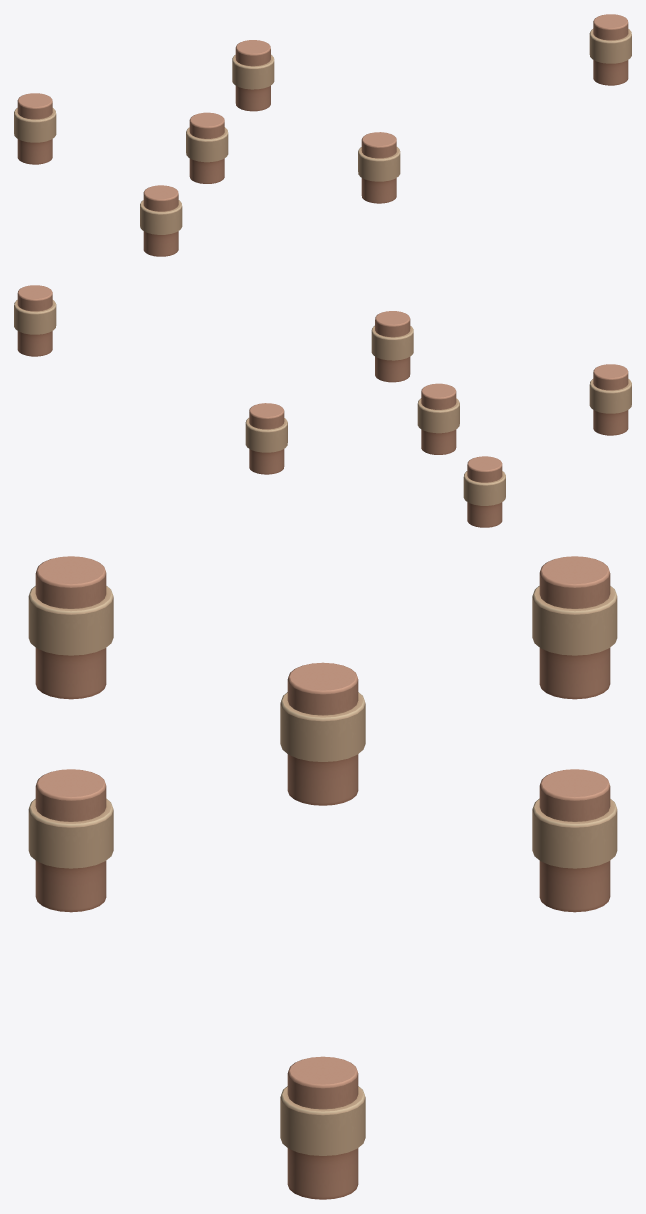
The model's file is Props.fbx.
The picture shows the model from 3 angles, top to bottom: view 1: azimuth 30°, elevation 25°; view 2: azimuth 150°, elevation 25°; view 3: azimuth 270°, elevation 25°; orthographic projection. The views are drawn at different scales.
Visible parts, largest first — view 1: Cylinder-2 (2), Cylinder-2, Cylinder-2 (3), Cylinder-2 (4), Cylinder-2 (1), Cylinder-2 (5); view 2: Cylinder-2 (3), Cylinder-2, Cylinder-2 (2), Cylinder-2 (5), Cylinder-2 (1), Cylinder-2 (4); view 3: Cylinder-2 (1), Cylinder-2 (2), Cylinder-2 (3), Cylinder-2, Cylinder-2 (4), Cylinder-2 (5).
Part boxes in pixels (left/top/right/bottom): Cylinder-2 (2): left=140, top=185, right=182, bottom=256; Cylinder-2: left=589, top=14, right=631, bottom=85; Cylinder-2 (3): left=14, top=93, right=56, bottom=164; Cylinder-2 (4): left=358, top=132, right=400, bottom=203; Cylinder-2 (1): left=186, top=112, right=228, bottom=183; Cylinder-2 (5): left=232, top=40, right=274, bottom=111; Cylinder-2 (3): left=463, top=456, right=505, bottom=527; Cylinder-2: left=14, top=285, right=56, bottom=356; Cylinder-2 (2): left=589, top=364, right=631, bottom=435; Cylinder-2 (5): left=245, top=403, right=287, bottom=474; Cylinder-2 (1): left=417, top=383, right=459, bottom=454; Cylinder-2 (4): left=371, top=311, right=413, bottom=382; Cylinder-2 (1): left=280, top=662, right=365, bottom=805; Cylinder-2 (2): left=28, top=556, right=113, bottom=699; Cylinder-2 (3): left=532, top=556, right=617, bottom=699; Cylinder-2: left=280, top=1056, right=365, bottom=1199; Cylinder-2 (4): left=28, top=769, right=113, bottom=912; Cylinder-2 (5): left=532, top=769, right=617, bottom=912.
Size of the model in its own units: 50.38 by 5 by 23.38.
Materials: 1 (1 with a texture image).
